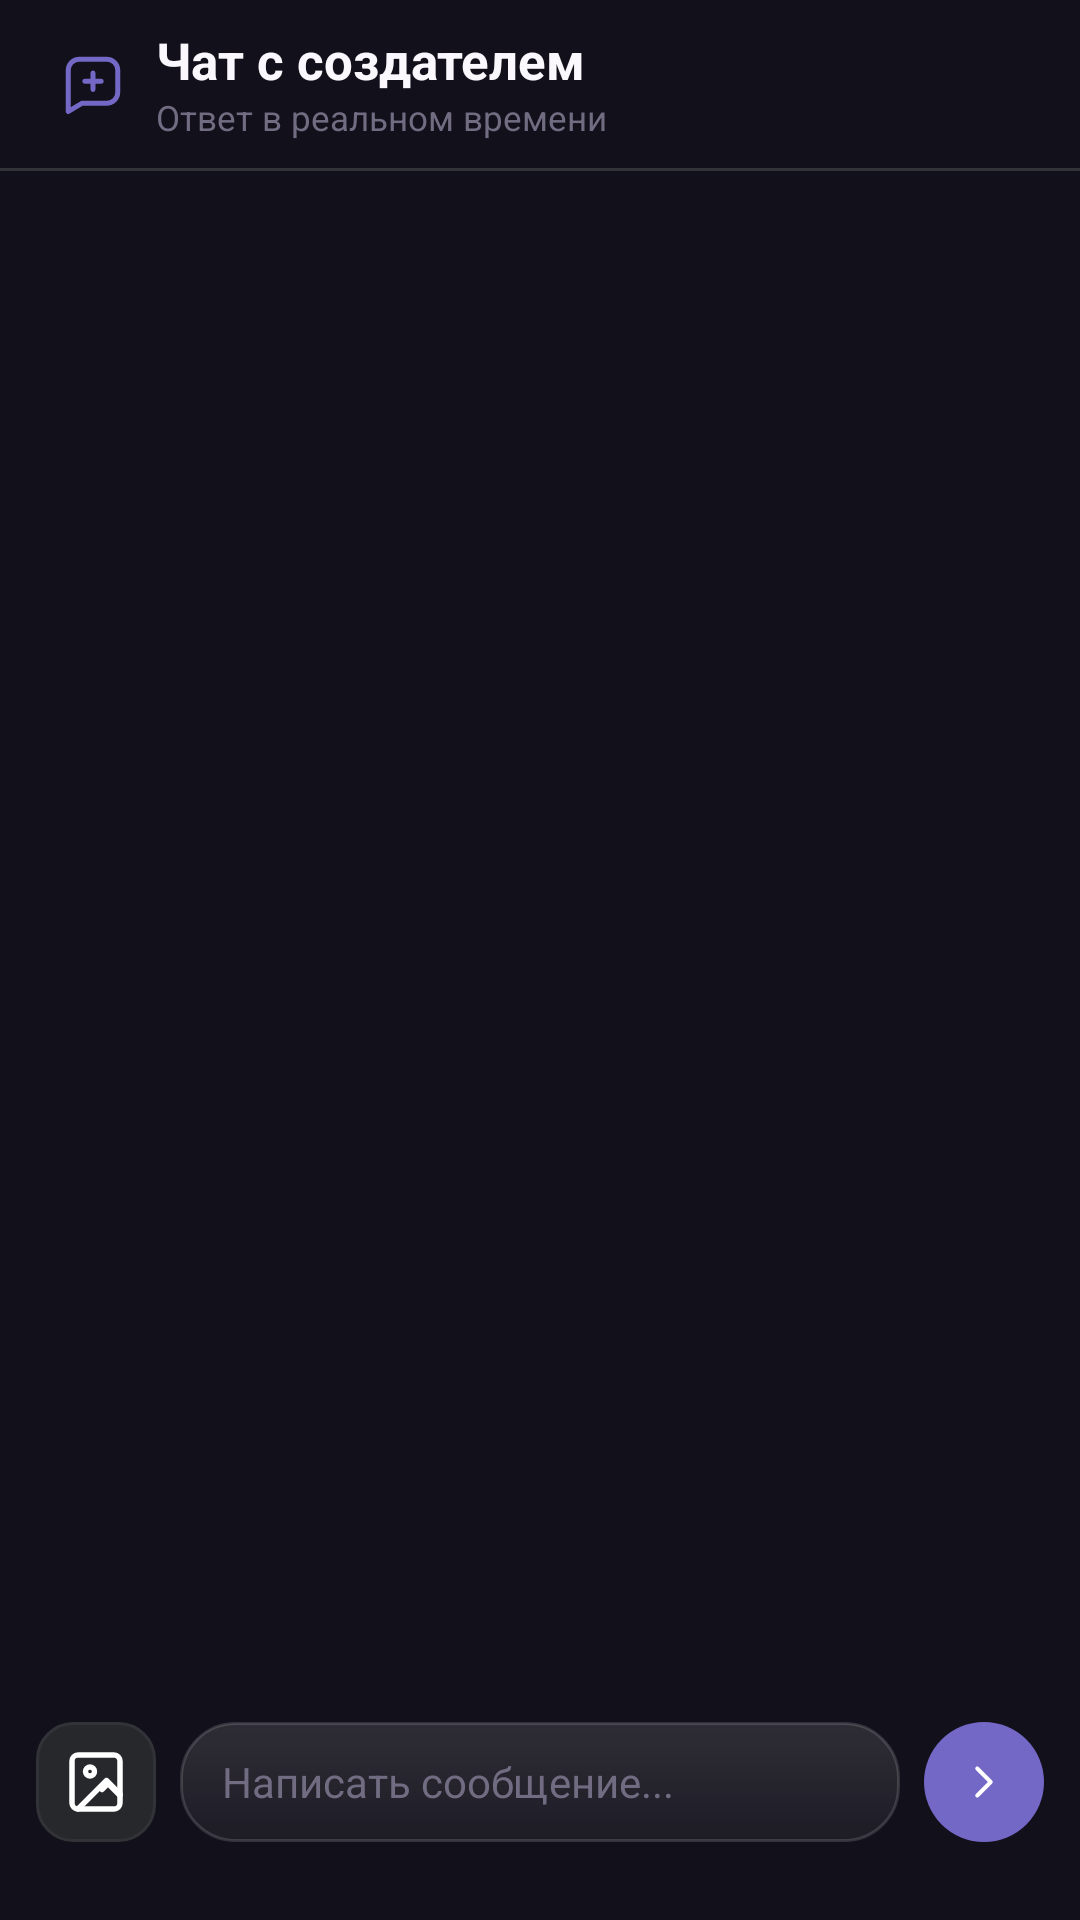

Where icons sit on this 1080*1920 app screen, as (x1, y1, x2, y2):
arrow right: (975, 1766, 993, 1798)
support: (65, 56, 121, 114)
Выбрать из галереи: (36, 1722, 156, 1842)
